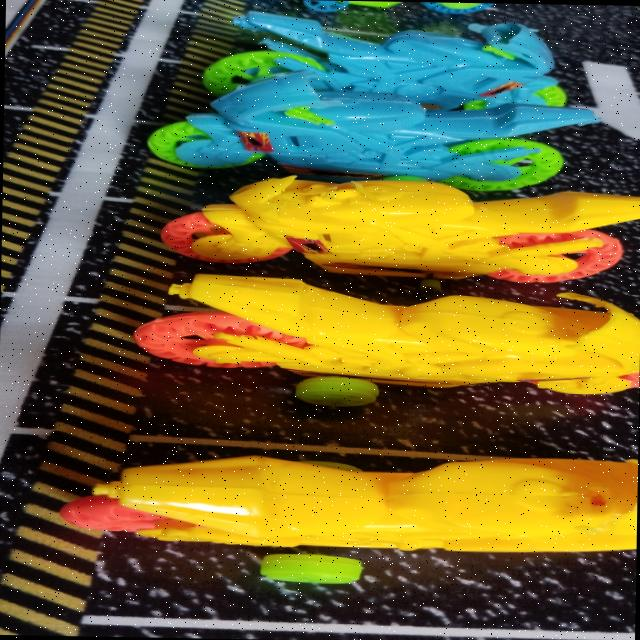occupied: (86, 438, 637, 638), (130, 305, 640, 460), (148, 70, 598, 202), (166, 192, 640, 308), (183, 11, 566, 113)
